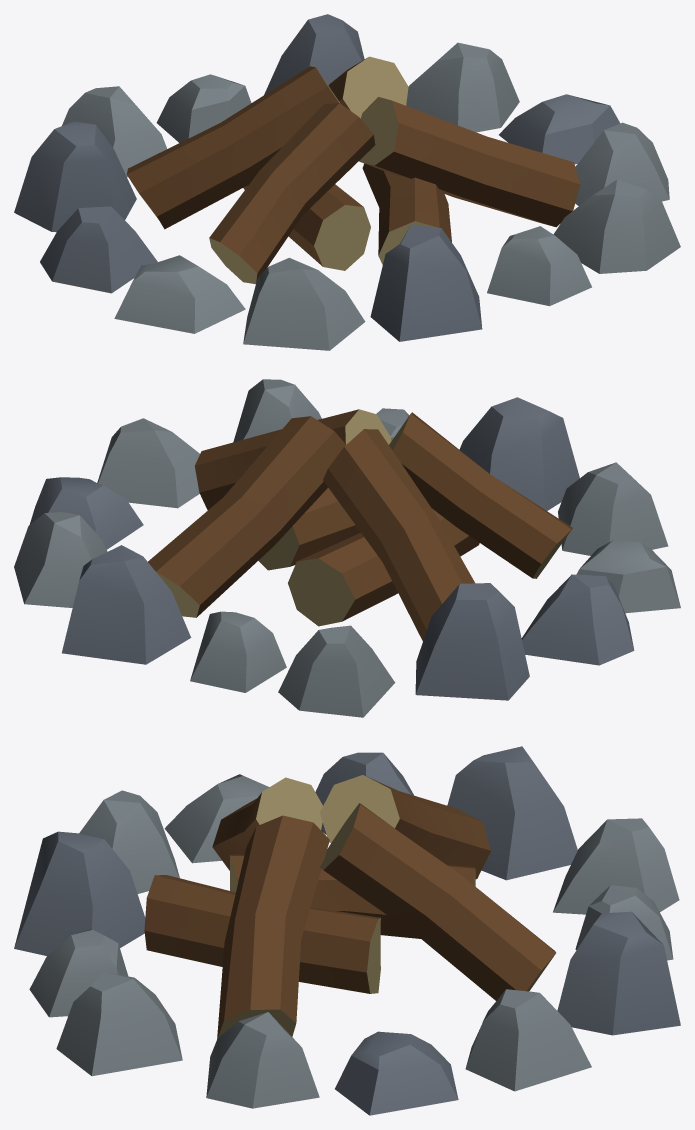
The model's file is Bonfire.gltf.
The picture shows the model from 3 angles, top to bottom: view 1: azimuth 30°, elevation 25°; view 2: azimuth 150°, elevation 25°; view 3: azimuth 270°, elevation 25°; orthographic projection. The views are drawn at different scales.
Visible parts, largest first — view 1: Bonfire; view 2: Bonfire; view 3: Bonfire.
Part boxes in pixels (x1,y1,x2,y2): Bonfire: (14,14,680,350); Bonfire: (14,379,680,717); Bonfire: (14,746,680,1115).
Size of the model in its own units: 0.4066 by 0.1122 by 0.3624.
